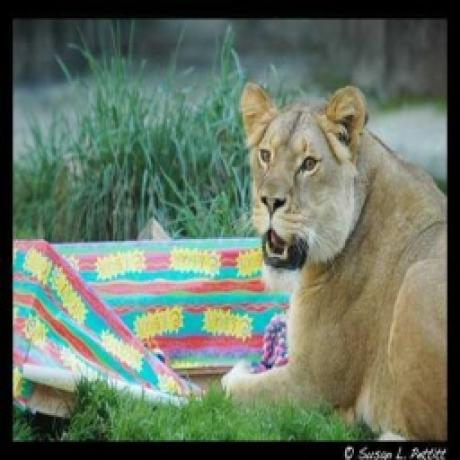Lion: (220, 78, 450, 443)
